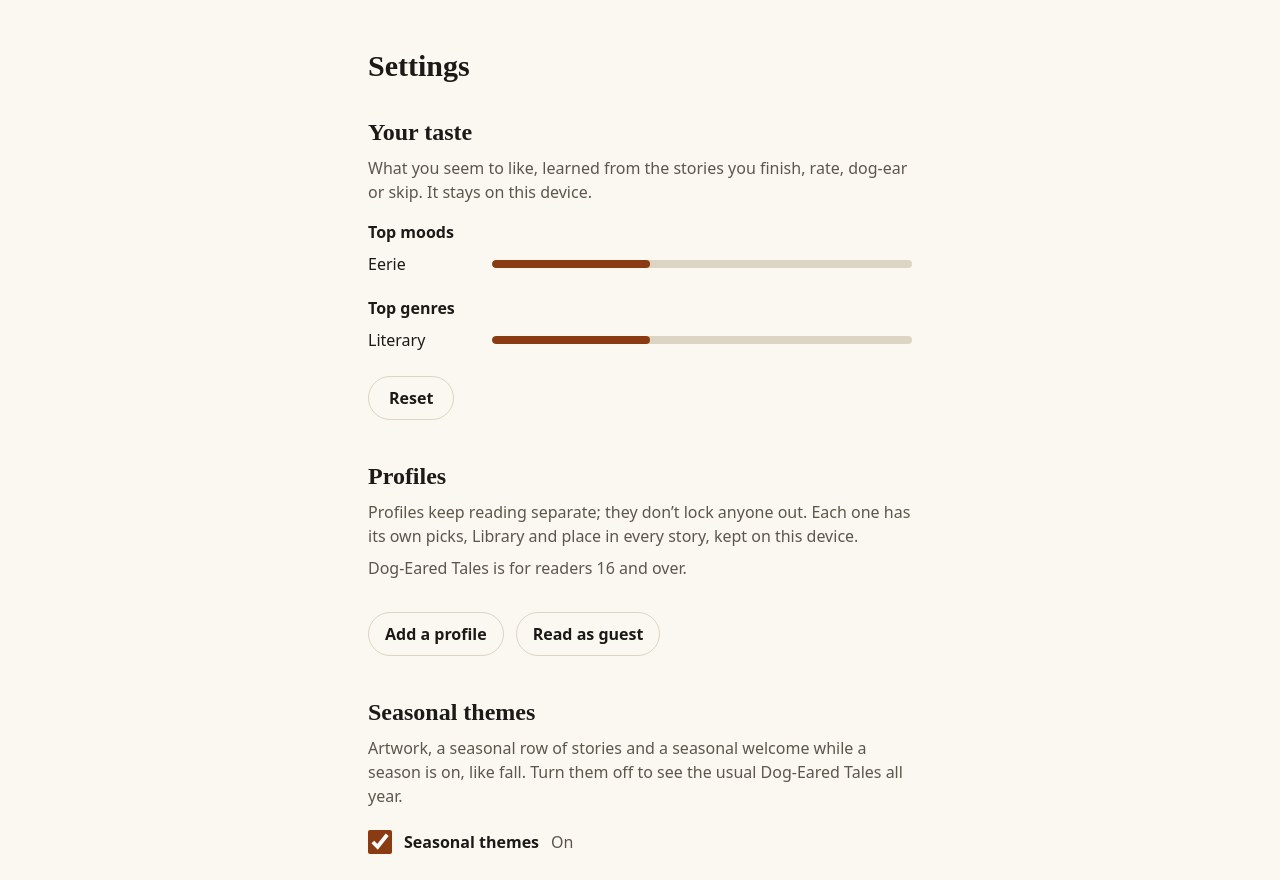
Your taste › Reset asks first, then clears the taste without editing the event log
Expected: the text "eerie" is shown, x1=368 y1=253 x2=406 y2=275
Click the button "Reset". click: x=411, y=398
box: x1=368 y1=376 x2=454 y2=420
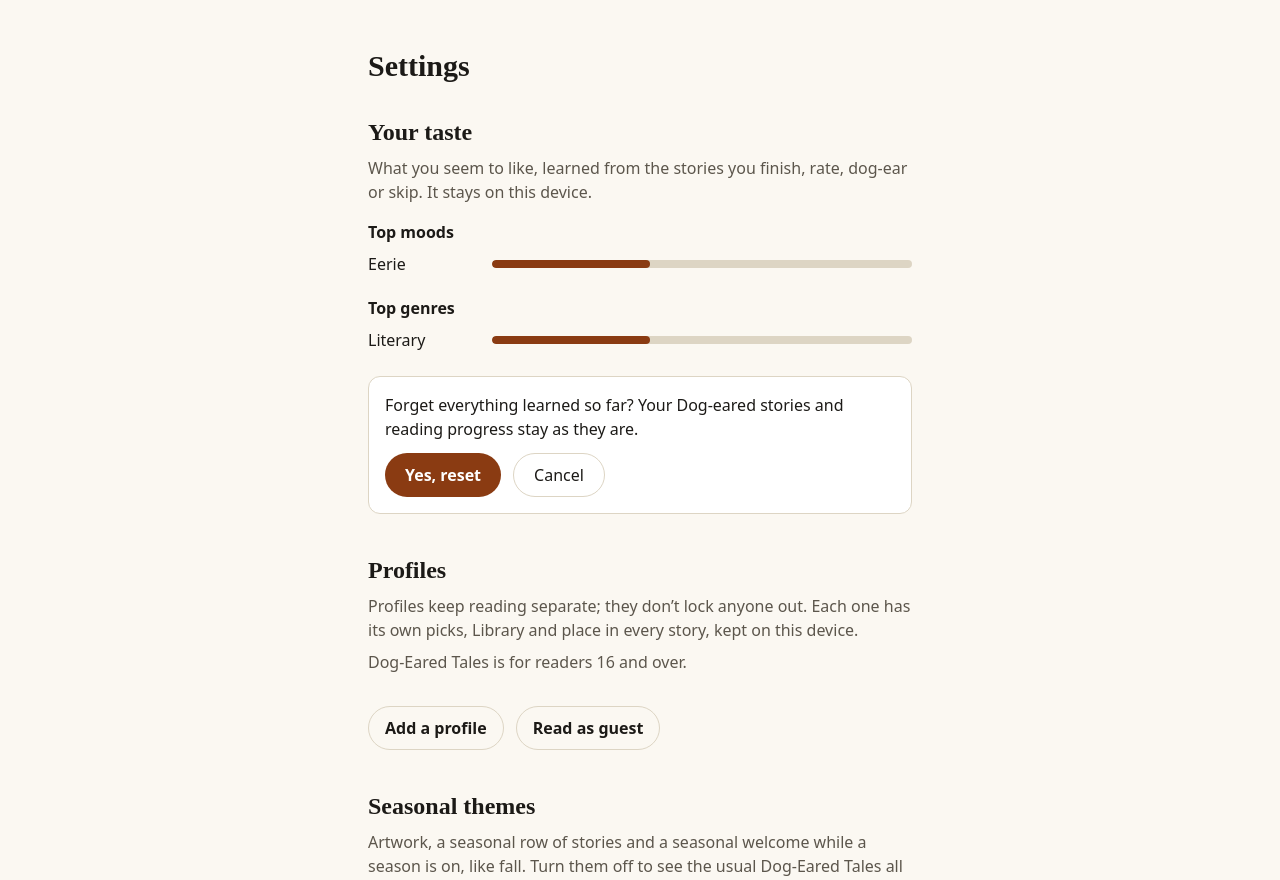
// Cancel changes nothing.
Click the button "Cancel". click: x=559, y=475
box: x1=513 y1=453 x2=605 y2=497
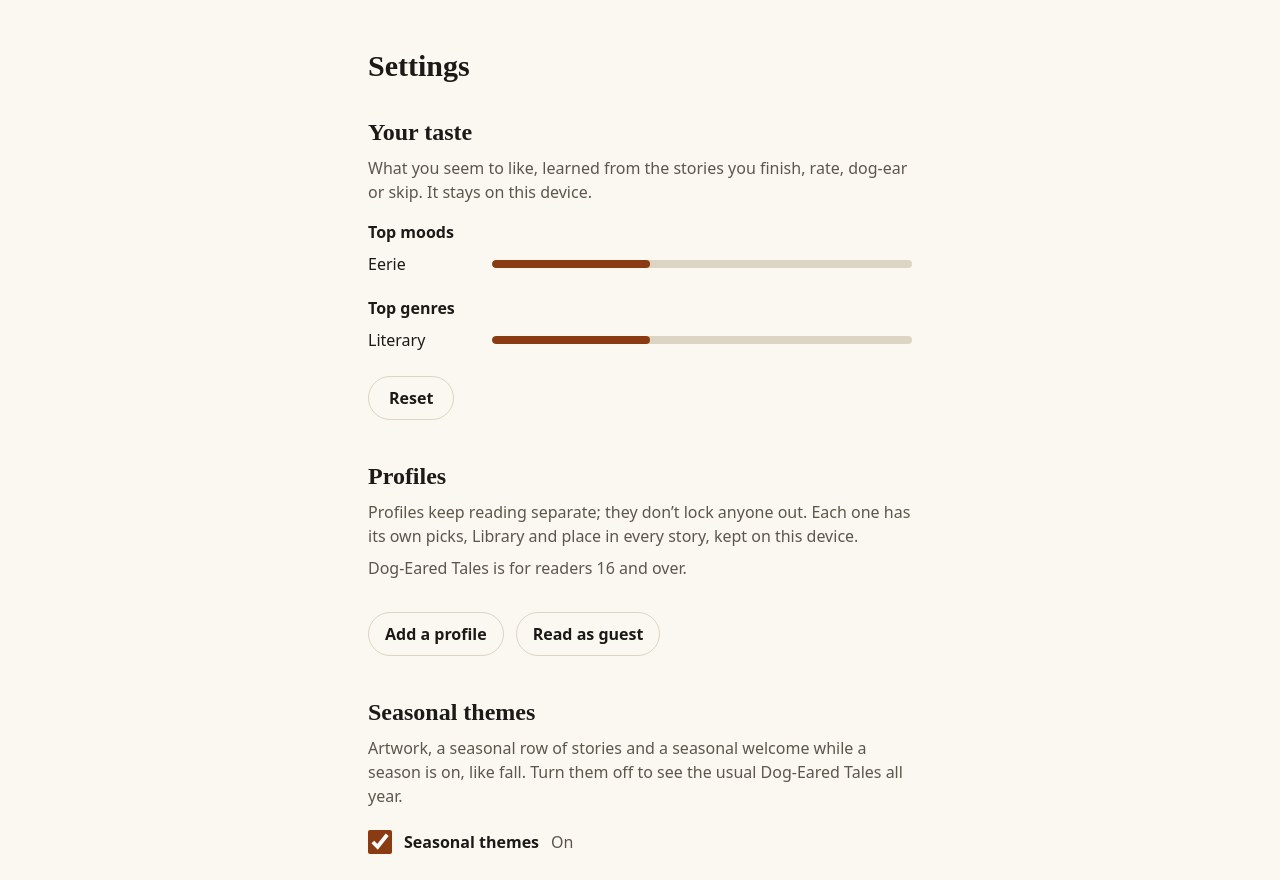
Click the button "Reset". click: x=411, y=398
box: x1=368 y1=376 x2=454 y2=420
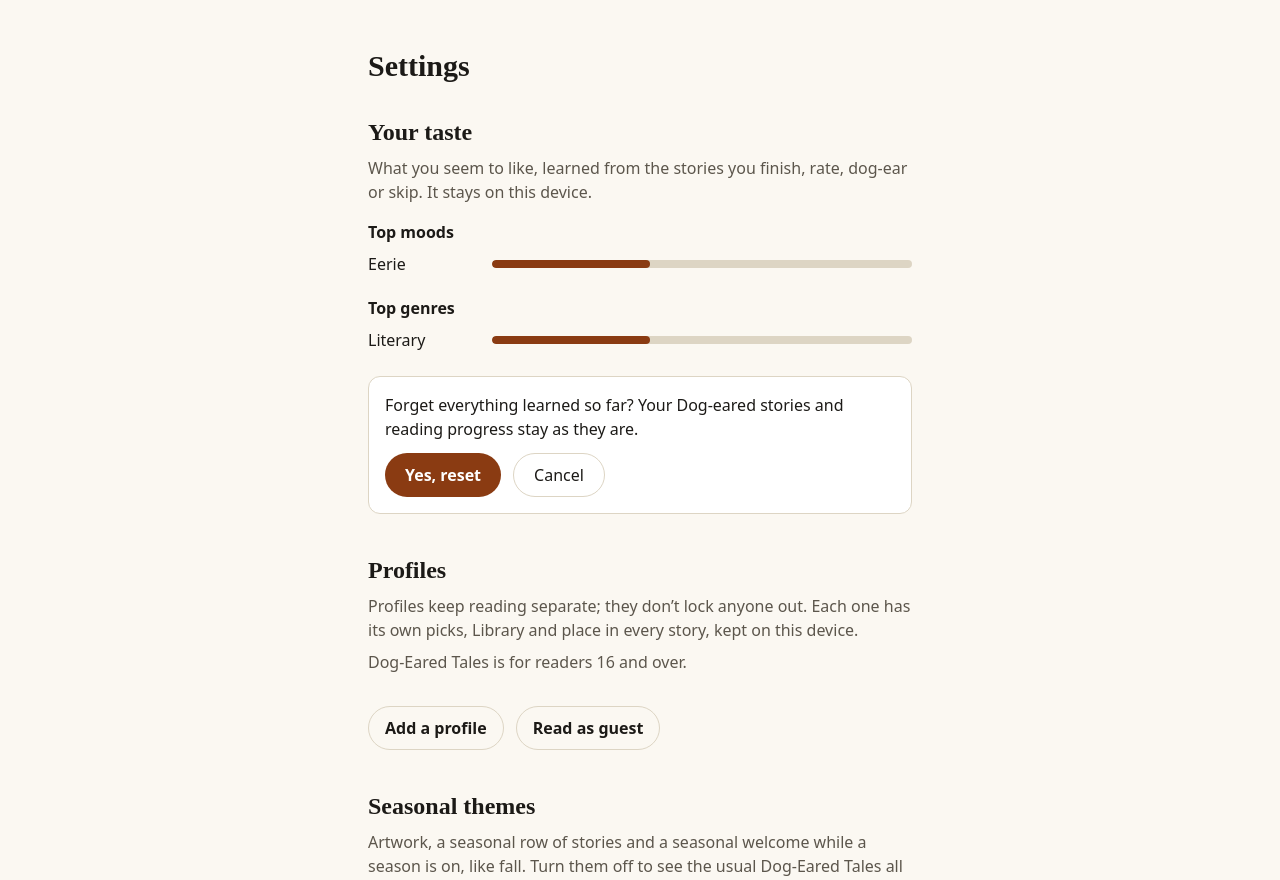
Click the button "Yes, reset". click: x=443, y=475
box: x1=385 y1=453 x2=501 y2=497
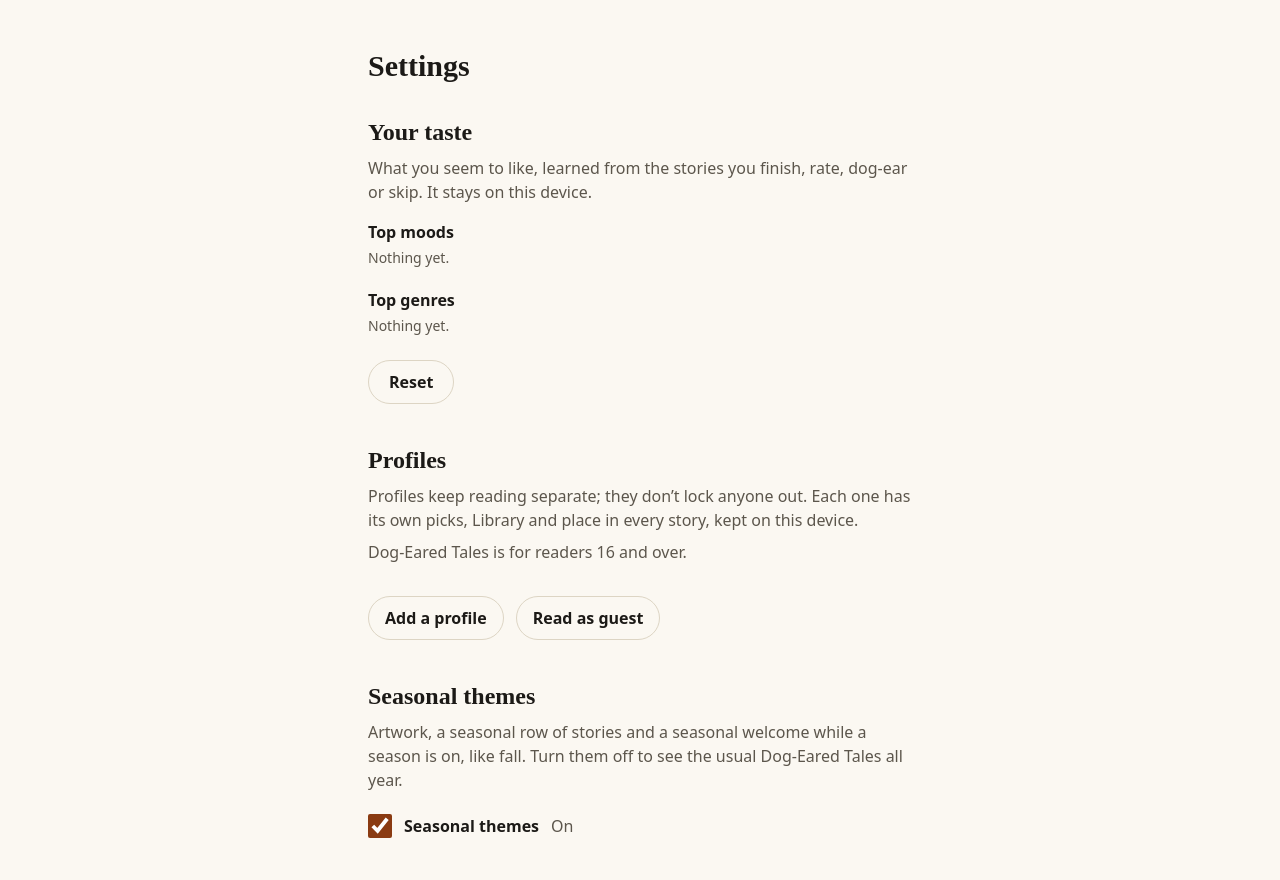
Expected: the text "Nothing yet." is shown 2 times, x1=368 y1=248 x2=449 y2=267; x1=368 y1=316 x2=449 y2=335
